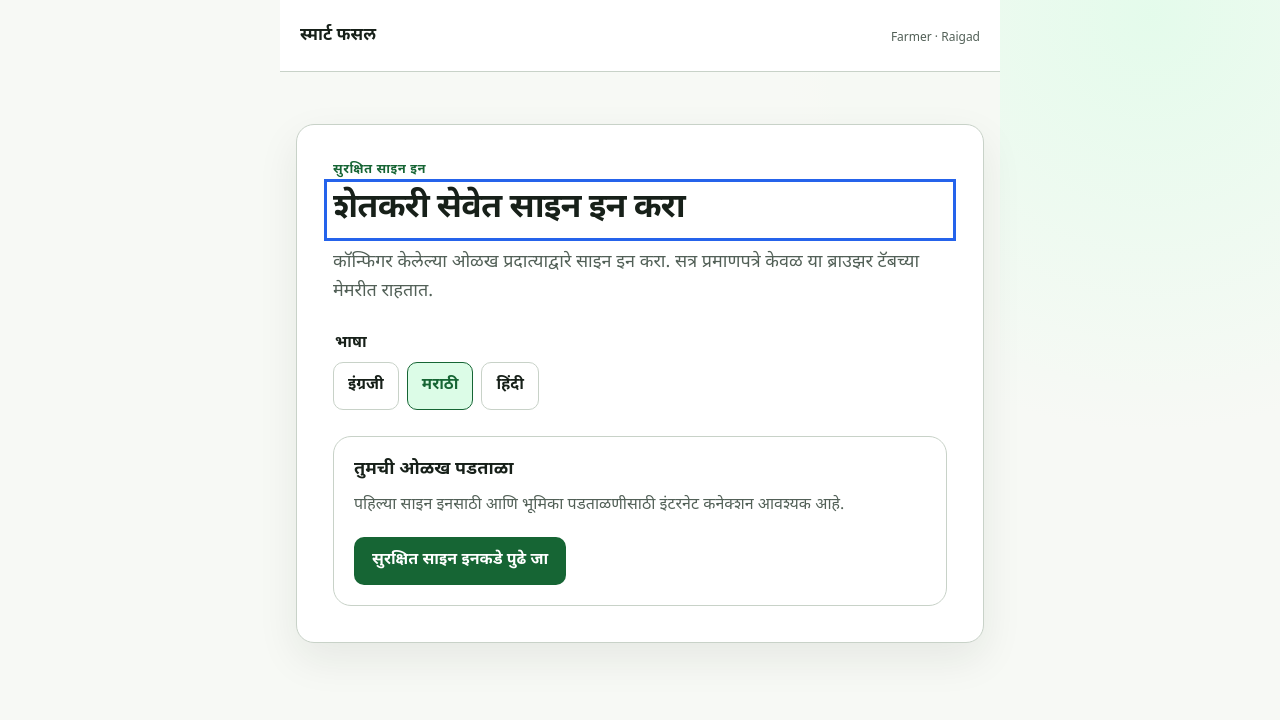
Test: Farmer authentication gateway › renders the truthful withdrawn result from role establishment
Click the button "सुरक्षित साइन इनकडे पुढे जा": (460, 561) [354,537,566,585]
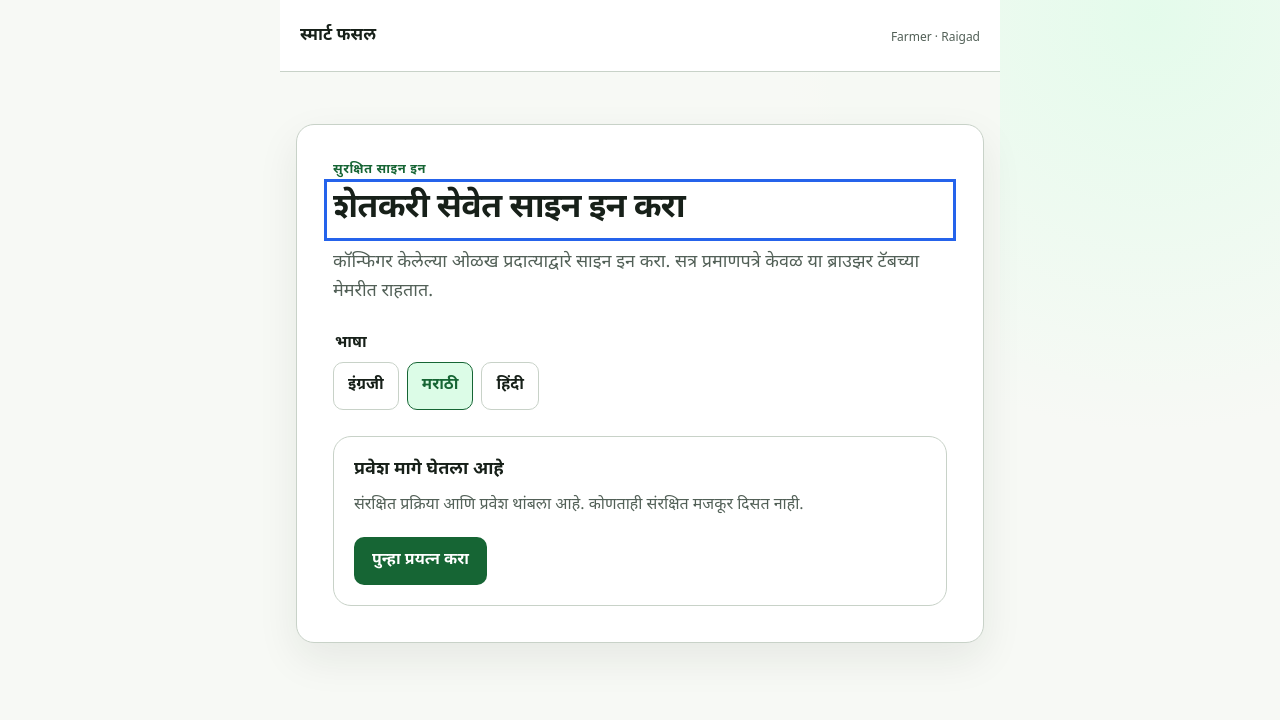
Now the heading "प्रवेश मागे घेतला आहे" is shown, box [354,458,504,481]
Now the button "पुन्हा प्रयत्न करा" is shown, box [354,537,487,585]
